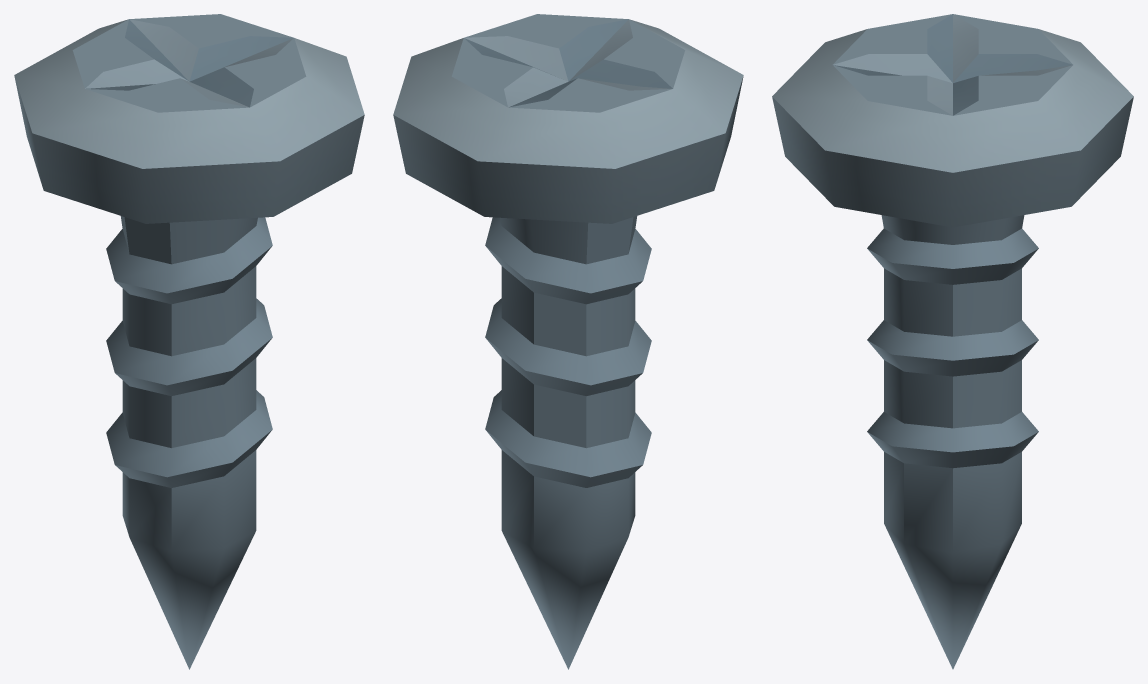
File: screw_B.obj
The picture shows the model from 3 angles, left to right: view 1: azimuth 30°, elevation 25°; view 2: azimuth 150°, elevation 25°; view 3: azimuth 270°, elevation 25°; orthographic projection.
Parts seen in each view (by area): view 1: screw_B; view 2: screw_B; view 3: screw_B.
Part boxes in pixels (x1,y1,x2,y2): screw_B: (14, 14, 364, 669); screw_B: (393, 14, 743, 669); screw_B: (772, 14, 1133, 669).
Size of the model in its own units: 0.1589 by 0.2931 by 0.1589.
Materials: 1 (1 with a texture image).
